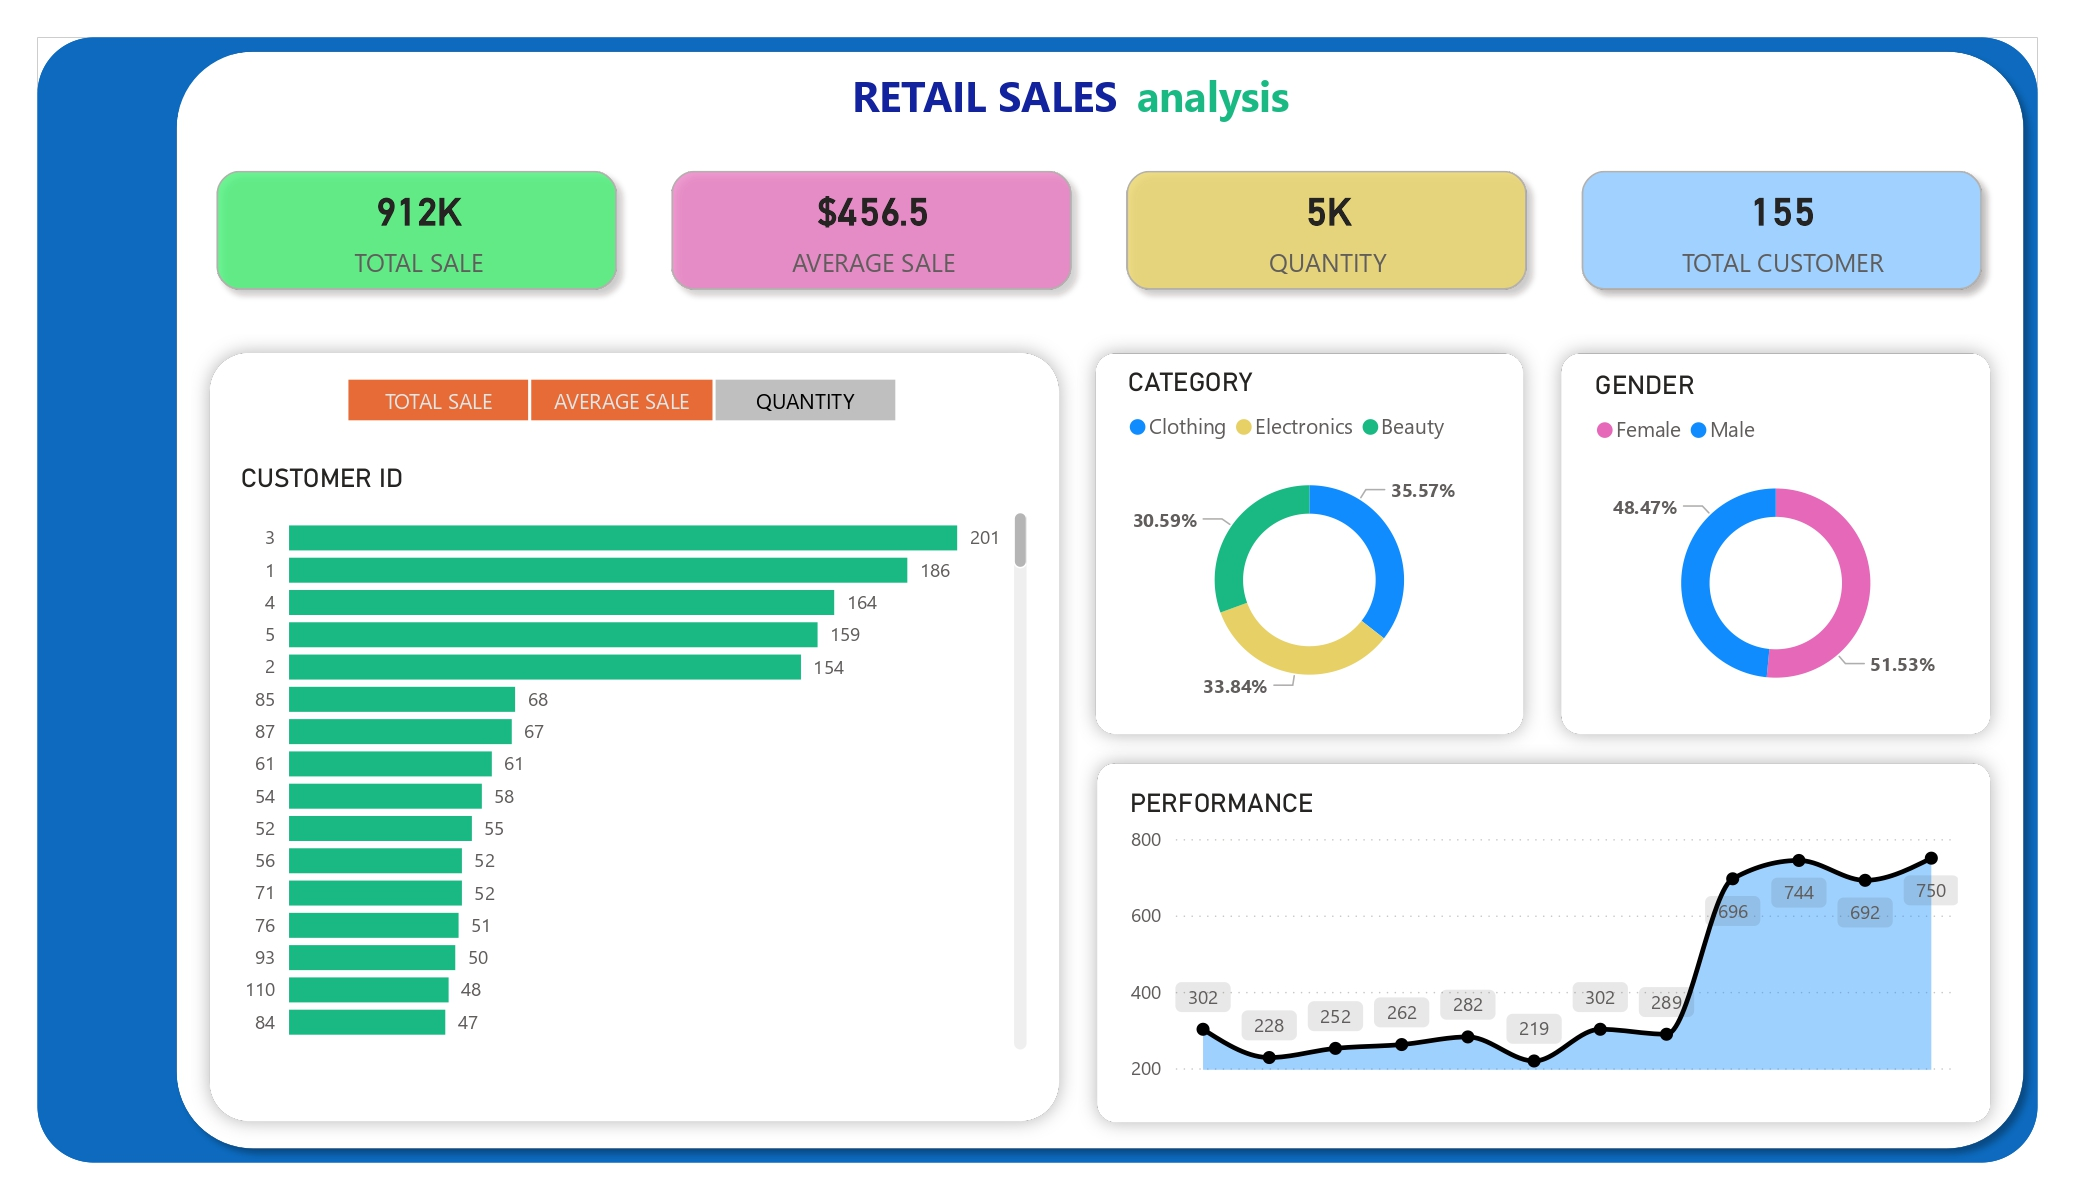

What the dashboard file says about the page in this screenshot:
{"tool":"powerbi","page":{"name":"Overall","canvas":[1280,720],"ordinal":0},"visuals":[{"type":"shape","box":[0,0,1280,720],"z":0},{"type":"shape","box":[80,0,1200,720],"z":1000},{"type":"textbox","box":[516,14,300,54],"z":2000},{"type":"cardVisual","fields":{"Data":["Sum(SQL - Retail Sales Analysis_utf.total_sale)","SQL - Retail Sales Analysis_utf.AVG SALE","Sum(SQL - Retail Sales Analysis_utf.quantiy)","SQL - Retail Sales Analysis_utf.TOTAL CUSTOMER"]},"box":[98,68,1164,110],"z":3000},{"type":"shape","box":[98,190,568,516],"z":4000},{"type":"slicer","fields":{"Values":["Parameter.Parameter"]},"box":[173.3,211.7,400,40],"z":5000},{"type":"clusteredBarChart","title":"CUSTOMER ID","fields":{"Y":["SQL - Retail Sales Analysis_utf.total quantity"],"Category":["SQL - Retail Sales Analysis_utf.customer_id"]},"box":[125,271.7,513.3,381.7],"z":6000},{"type":"shape","box":[665,190,298.3,268.3],"z":7000},{"type":"donutChart","title":"CATEGORY","fields":{"Y":["SQL - Retail Sales Analysis_utf.total quantity"],"Category":["SQL - Retail Sales Analysis_utf.category"]},"box":[693.3,210,241.7,225],"z":8000},{"type":"shape","box":[963.3,190,298.3,268.3],"z":9000},{"type":"donutChart","title":"GENDER","fields":{"Y":["SQL - Retail Sales Analysis_utf.total quantity"],"Category":["SQL - Retail Sales Analysis_utf.gender"]},"box":[991.7,211.7,241.7,225],"z":10000},{"type":"shape","box":[666,452,596,254],"z":11000},{"type":"lineChart","title":"PERFORMANCE","fields":{"Y":["SQL - Retail Sales Analysis_utf.total quantity"],"Category":["SQL - Retail Sales Analysis_utf.sale_date.Variation.Date Hierarchy.Month"]},"box":[694.4,480,540,194.4],"z":12000}]}

Visuals, with their boxes in screenshot pixels (x1, y1, x2, y2):
shape: l=38, t=38, r=2038, b=1162
shape: l=162, t=38, r=2038, b=1162
textbox: l=844, t=59, r=1312, b=144
cardVisual - Sum(SQL - Retail Sales Analysis_utf.total_sale) x SQL - Retail Sales Analysis_utf.AVG SALE: l=191, t=144, r=2009, b=316
shape: l=191, t=334, r=1078, b=1141
slicer - Parameter.Parameter: l=308, t=368, r=933, b=431
"CUSTOMER ID" clusteredBarChart: l=233, t=462, r=1035, b=1058
shape: l=1077, t=334, r=1543, b=754
"CATEGORY" donutChart: l=1121, t=366, r=1498, b=717
shape: l=1543, t=334, r=2009, b=754
"GENDER" donutChart: l=1587, t=368, r=1965, b=720
shape: l=1078, t=744, r=2009, b=1141
"PERFORMANCE" lineChart: l=1122, t=788, r=1966, b=1091
